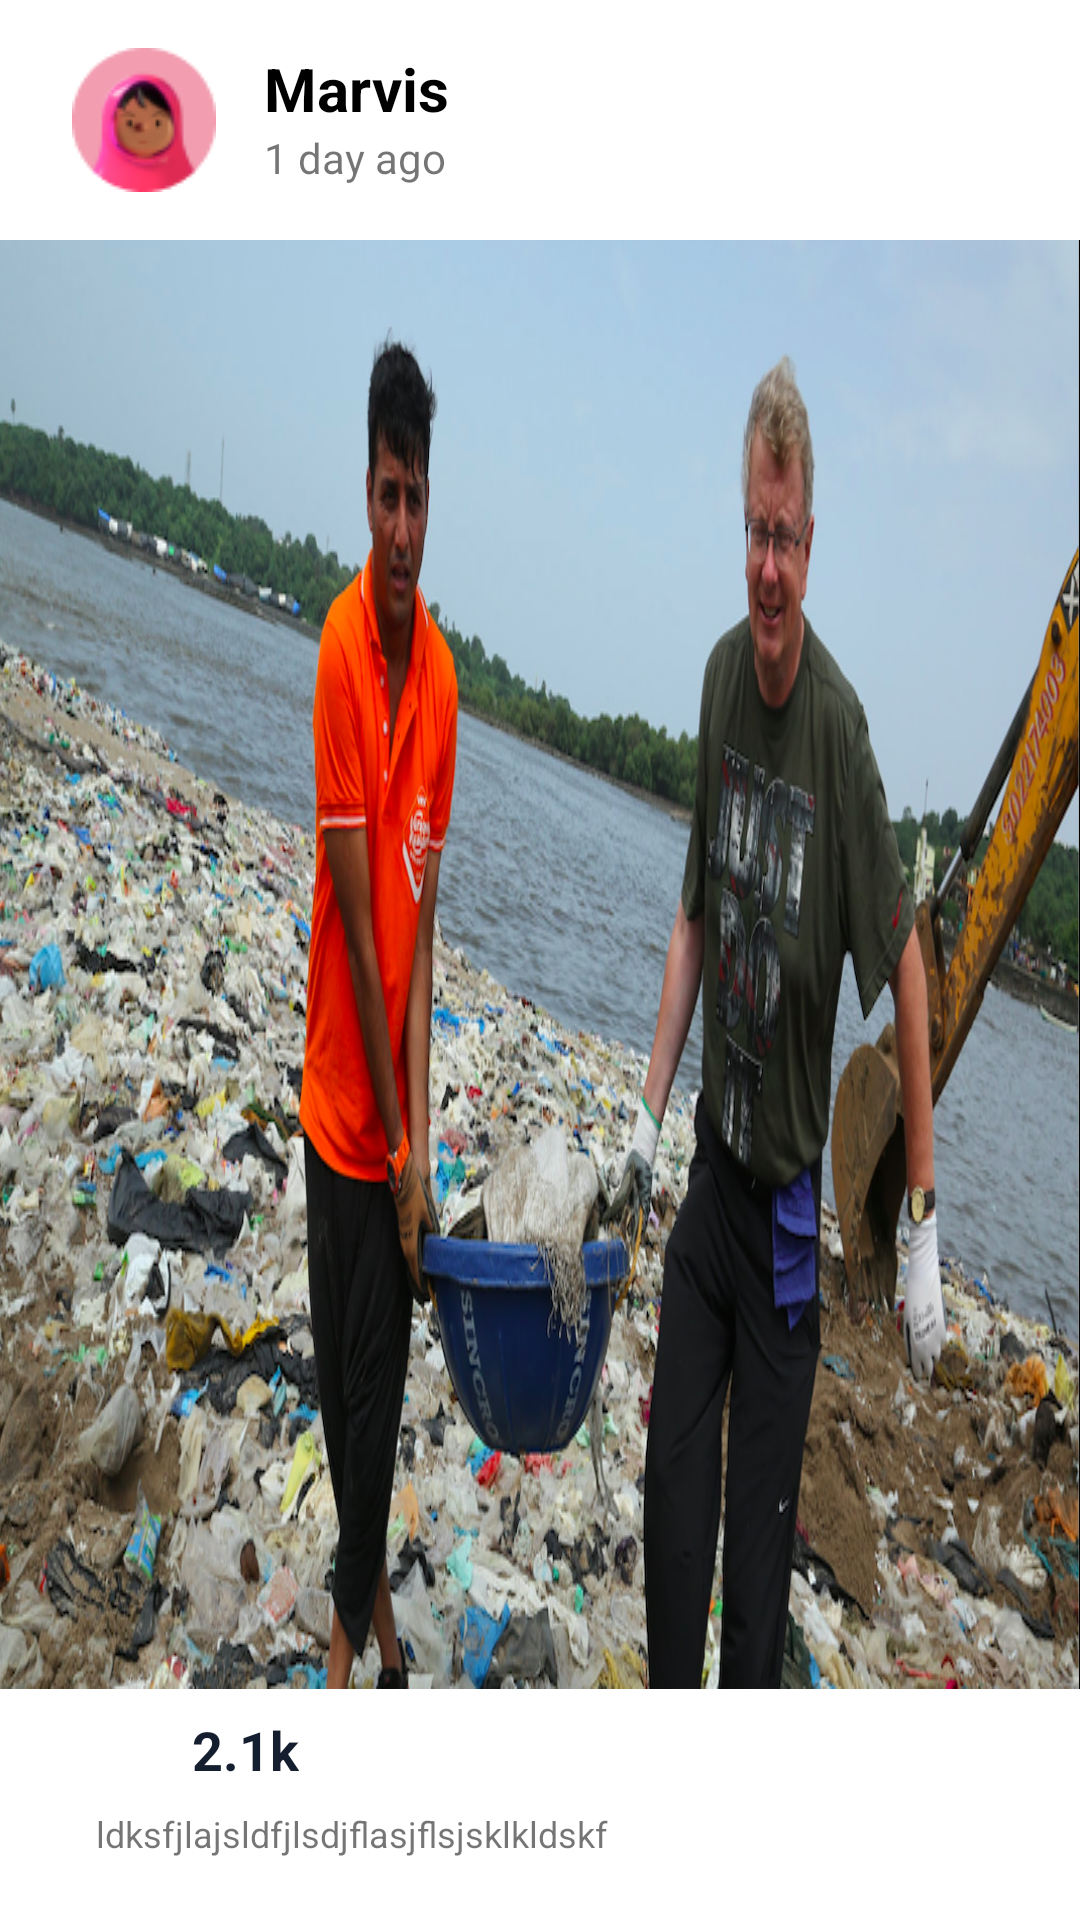

Point at icon controls on the screen. Image size 1080x1920, points as point (x, y).
sampledp: point (144, 120)
